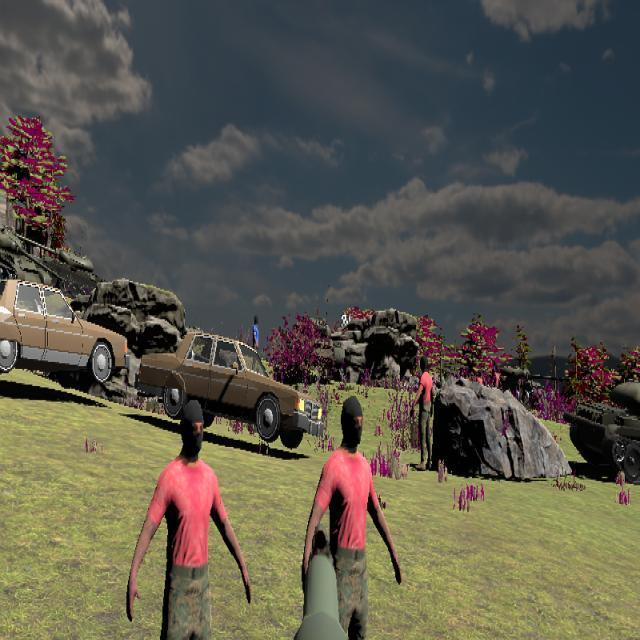Human: (126, 397, 253, 639), (301, 389, 402, 639), (410, 356, 436, 469)
Tank: (566, 377, 640, 485), (0, 219, 77, 288)
car: (135, 332, 326, 448), (0, 278, 132, 384)
